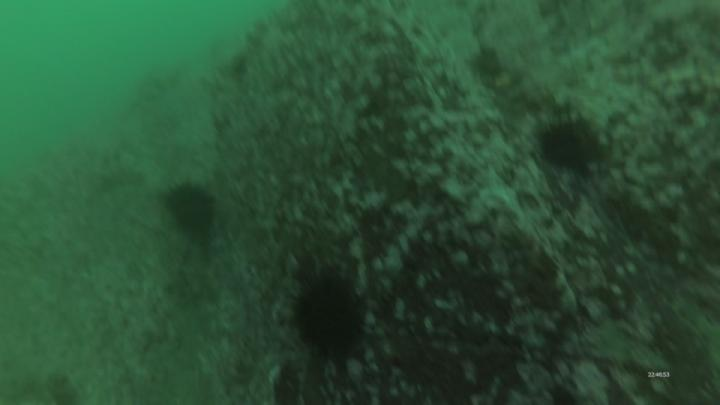echinus: (287, 269, 365, 363), (159, 176, 221, 246), (537, 113, 596, 178)
